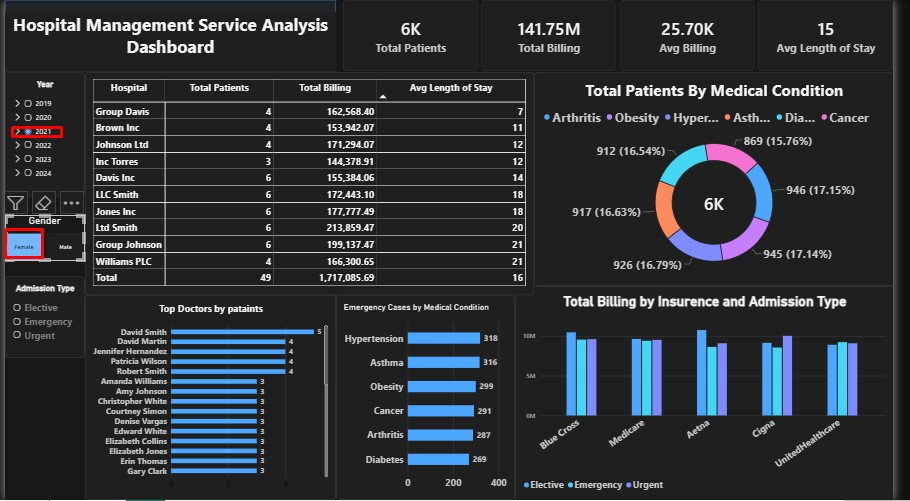

The page's visual inventory and layout, read from the dashboard file:
{"tool":"powerbi","page":{"name":"Page 1","canvas":[1920,1080],"ordinal":0},"visuals":[{"type":"cardVisual","fields":{"Data":["healthcare_dataset.Total Patients","healthcare_dataset.Total Billing","healthcare_dataset.Avg Billing","healthcare_dataset.Avg Length of Stay"]},"box":[730.7,0,1189.3,153.7],"z":0},{"type":"donutChart","title":"Total Patients By Medical Condition","fields":{"Category":["healthcare_dataset.Medical Condition"],"Y":["healthcare_dataset.Total Patients"]},"box":[1142.2,155,777.8,462.1],"z":1},{"type":"clusteredColumnChart","title":"Total Billing by Insurence and Admission Type","fields":{"Category":["healthcare_dataset.Insurance Provider"],"Series":["healthcare_dataset.Admission Type"],"Y":["healthcare_dataset.Total Billing"]},"box":[1101.1,617.3,818.9,463.6],"z":2},{"type":"pivotTable","fields":{"Rows":["healthcare_dataset.Hospital"],"Values":["healthcare_dataset.Total Patients","healthcare_dataset.Total Billing","healthcare_dataset.Avg Length of Stay"]},"box":[172.2,155,970,482.2],"z":3},{"type":"listSlicer","fields":{"Values":["healthcare_dataset.Date of Admission.Variation.Date Hierarchy.Year","healthcare_dataset.Date of Admission.Variation.Date Hierarchy.Month"]},"box":[0,155,172,268.4],"z":4},{"type":"advancedSlicerVisual","fields":{"Values":["healthcare_dataset.Gender"]},"box":[0,464.9,172,98.6],"z":5},{"type":"listSlicer","fields":{"Values":["healthcare_dataset.Admission Type"]},"box":[0,597,172,176.6],"z":6},{"type":"clusteredBarChart","title":"Top Doctors by pataints","fields":{"Category":["healthcare_dataset.Doctor"],"Y":["healthcare_dataset.Total Patients"]},"box":[172.2,637.1,542.4,442],"z":7},{"type":"shape","box":[0,0,714.6,155],"z":8},{"type":"textbox","box":[0,25.8,714.6,129.1],"z":9},{"type":"clusteredBarChart","title":"Emergency Cases by Medical Condition","fields":{"Category":["healthcare_dataset.Medical Condition"],"Y":["healthcare_dataset.Emergency Cases"]},"box":[714.6,637.1,386.5,442],"z":10}]}

Visuals, with their boxes in screenshot pixels (x1, y1, x2, y2), scaled from the page's 1920x1080 canvas onto the 910x501 screenshot:
cardVisual - healthcare_dataset.Total Patients x healthcare_dataset.Total Billing: (346, 0, 909, 71)
"Total Patients By Medical Condition" donutChart: (541, 72, 909, 286)
"Total Billing by Insurence and Admission Type" clusteredColumnChart: (522, 286, 909, 500)
pivotTable - healthcare_dataset.Hospital x healthcare_dataset.Total Patients: (82, 72, 541, 296)
listSlicer - healthcare_dataset.Date of Admission.Variation.Date Hierarchy.Year x healthcare_dataset.Date of Admission.Variation.Date Hierarchy.Month: (0, 72, 82, 196)
advancedSlicerVisual - healthcare_dataset.Gender: (0, 216, 82, 261)
listSlicer - healthcare_dataset.Admission Type: (0, 277, 82, 359)
"Top Doctors by pataints" clusteredBarChart: (82, 296, 339, 500)
shape: (0, 0, 339, 72)
textbox: (0, 12, 339, 72)
"Emergency Cases by Medical Condition" clusteredBarChart: (339, 296, 522, 500)
